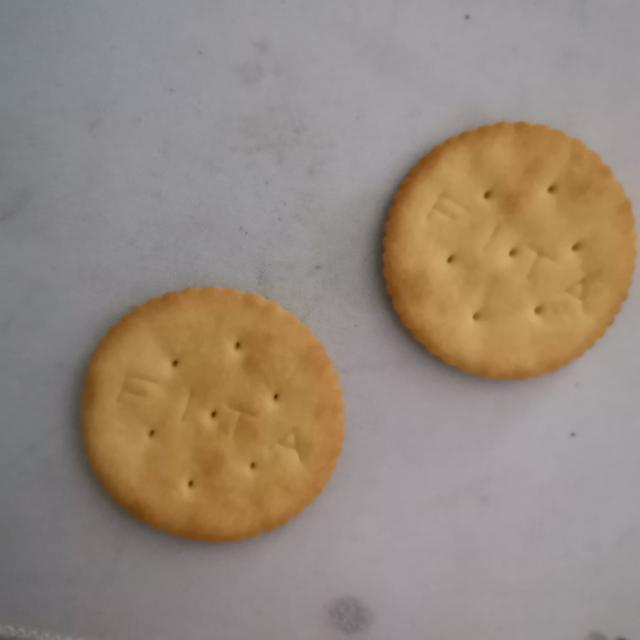Intact: (70, 280, 349, 558), (375, 115, 640, 384)
